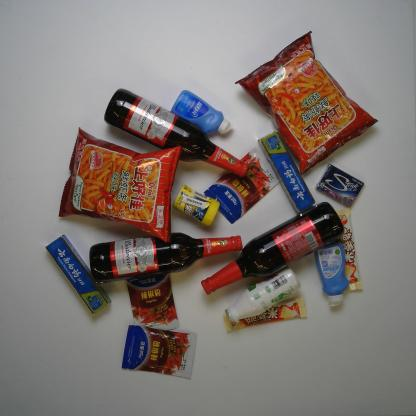Alcohol: (105, 86, 250, 184), (199, 201, 345, 291), (89, 234, 242, 284)
Chocolate: (222, 294, 307, 334), (332, 206, 363, 294)
Gum: (316, 165, 367, 211), (174, 180, 220, 229)
Milk: (227, 268, 302, 325)
Personal Hygiene: (43, 234, 110, 316), (257, 130, 315, 215), (172, 86, 232, 135), (314, 242, 350, 308)
Puffed Food: (235, 26, 378, 174), (56, 126, 181, 247)
Seasoner: (202, 145, 280, 223), (121, 322, 197, 379), (125, 270, 181, 332)
